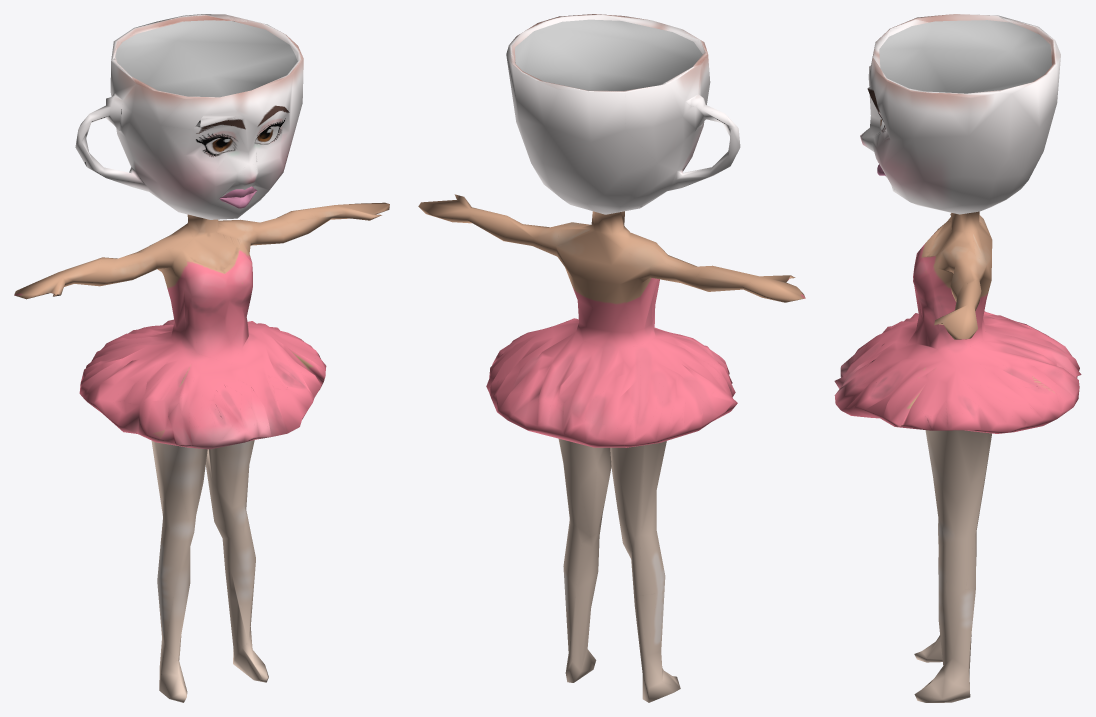
The model's file is ballerina.fbx.
3 views of the same model, side by side, from view 1: azimuth 30°, elevation 25°; view 2: azimuth 150°, elevation 25°; view 3: azimuth 270°, elevation 25° (orthographic). The views are drawn at different scales.
Visible parts, largest first — view 1: model; view 2: model; view 3: model.
Boxes of the visible parts, x1,y1,x2,y2 form: model: (14, 14, 389, 702); model: (418, 14, 805, 702); model: (834, 14, 1081, 702).
Bounding box in the file's own units: 120 × 190 × 67.68.
